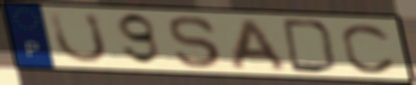9: (114, 12, 164, 68)
A: (228, 17, 291, 72)
C: (339, 22, 399, 76)
D: (279, 17, 340, 75)
S: (167, 14, 227, 70)
U: (47, 10, 110, 65)
